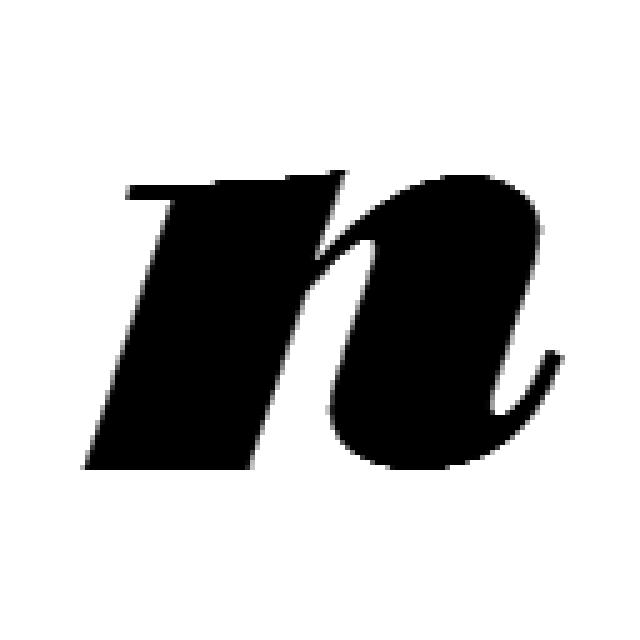N: (57, 157, 563, 467)
